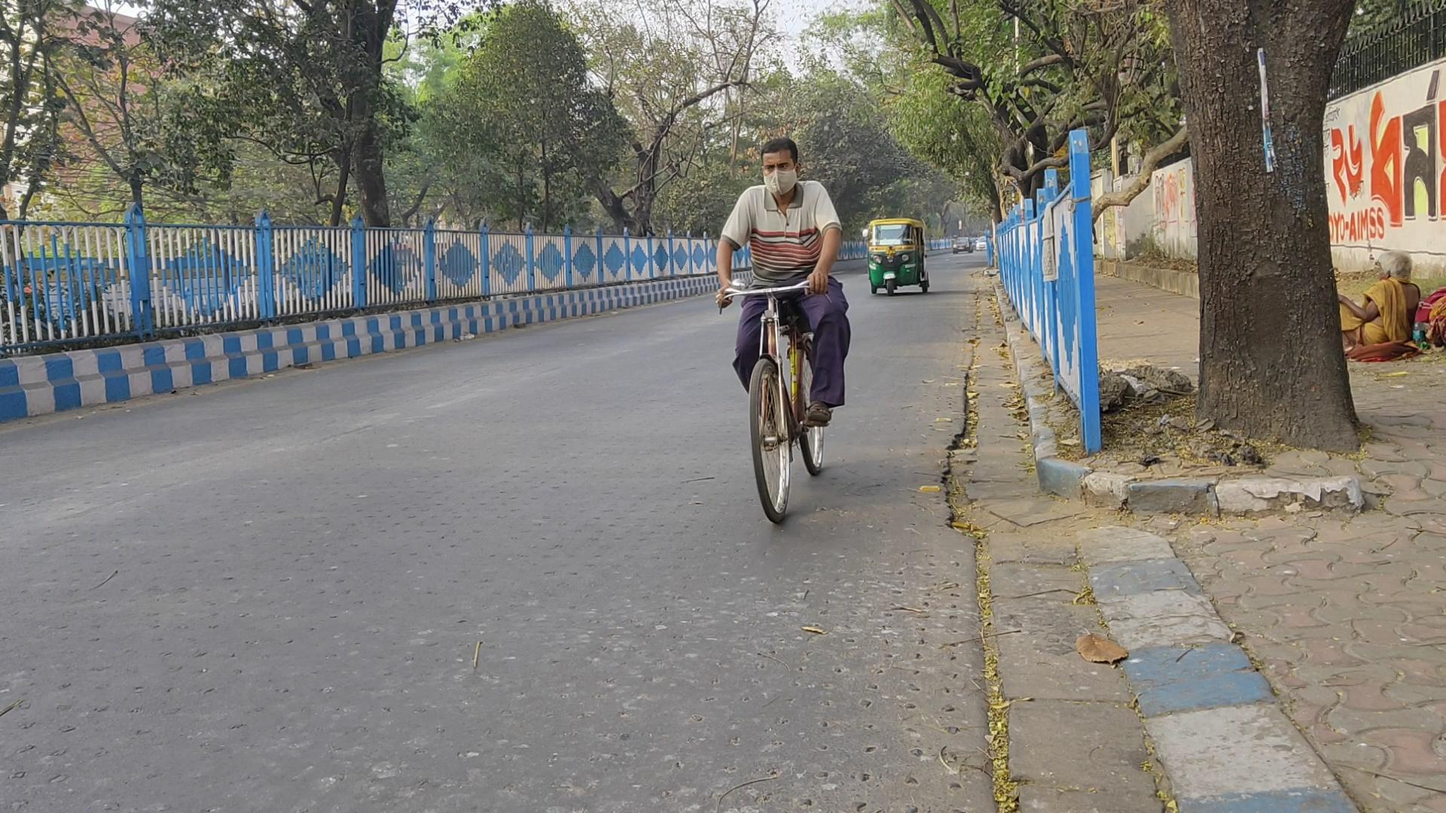Auto: (862, 217, 931, 298)
bike: (715, 137, 850, 524)
car: (952, 236, 973, 254)
